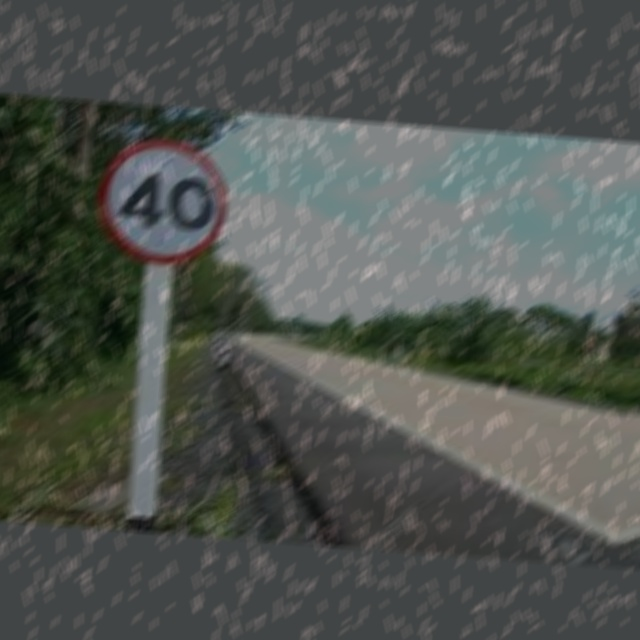Speed_Limit_40: (98, 128, 230, 266)
